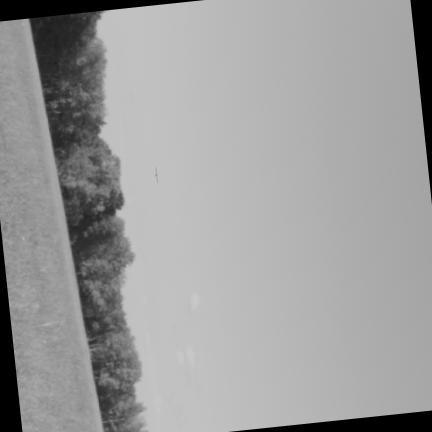Shahed: (155, 168, 157, 183)
